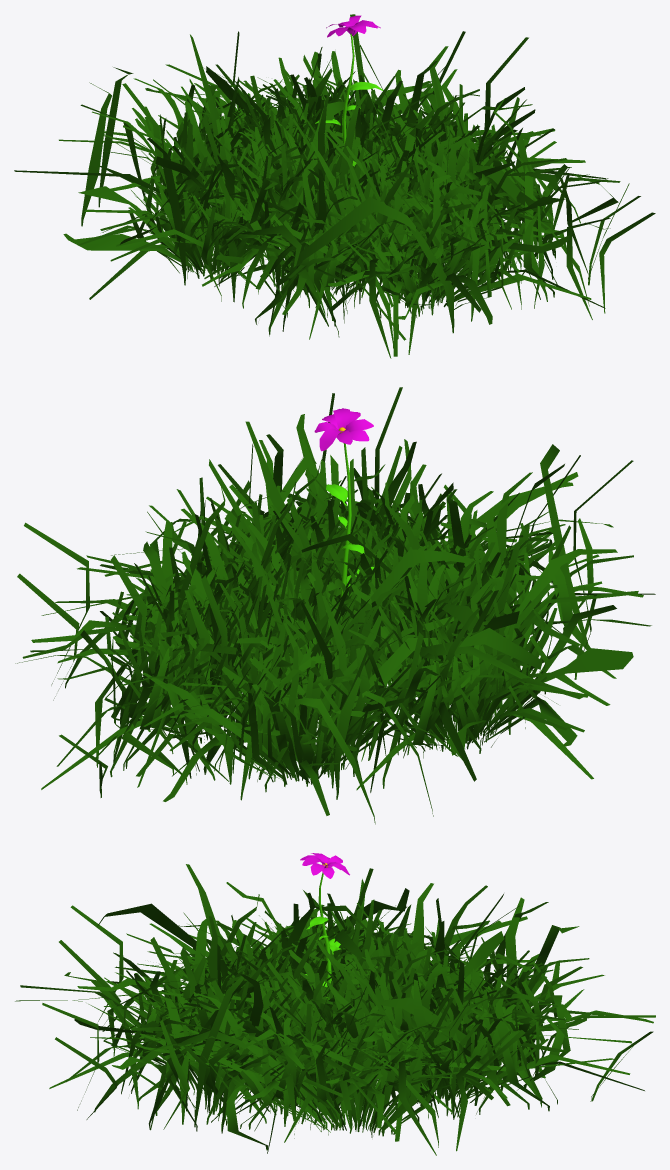
File: Player_Moving.fbx
3 renders of one model, top to bottom at view 1: azimuth 30°, elevation 25°; view 2: azimuth 150°, elevation 25°; view 3: azimuth 270°, elevation 25°, orthographic. The views are drawn at different scales.
Visible parts, largest first — view 1: Player; view 2: Player; view 3: Player.
Part boxes in pixels (bbox=[...]): Player: bbox=[14, 14, 655, 358]; Player: bbox=[15, 387, 655, 824]; Player: bbox=[15, 853, 655, 1155].
Bounding box in the file's own units: 154 × 73.84 × 197.
